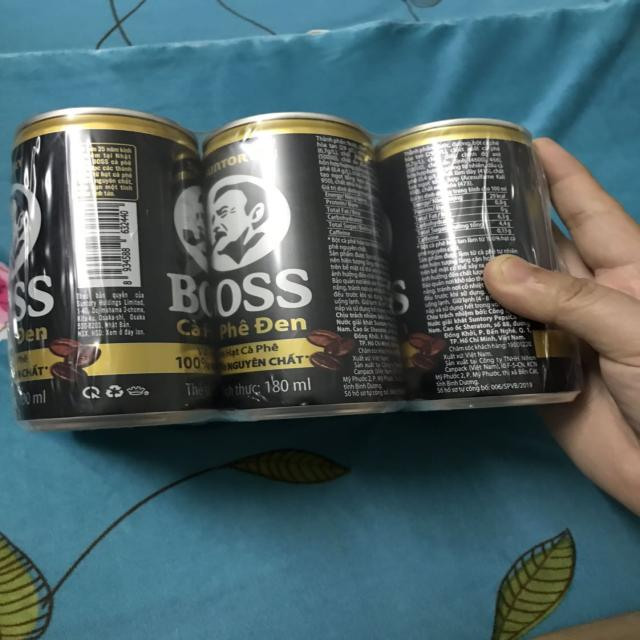metal: (10, 106, 214, 433), (202, 111, 405, 425), (378, 119, 583, 413)
